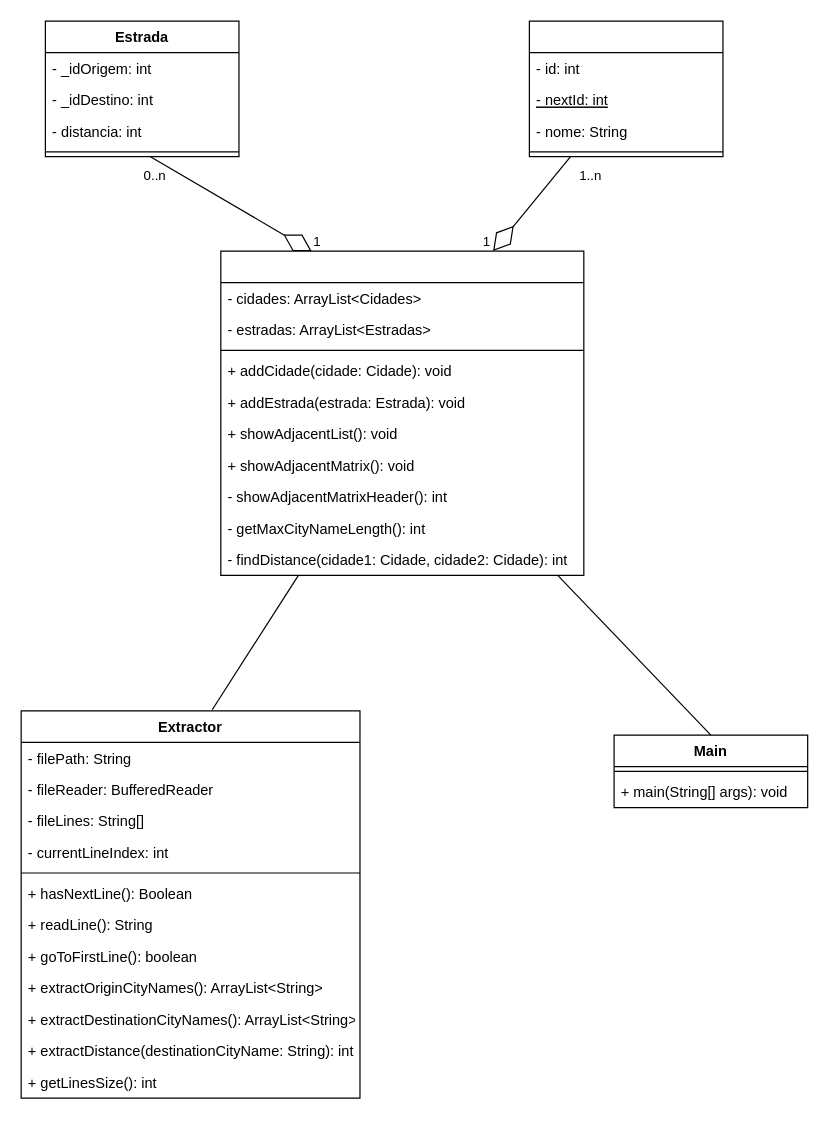
Image size: 829x1123. Some labels were removed from this diagram. Each missing label, with the box of its shape:
Cidade: (528, 20, 723, 157)
Grafo: (220, 250, 584, 575)
